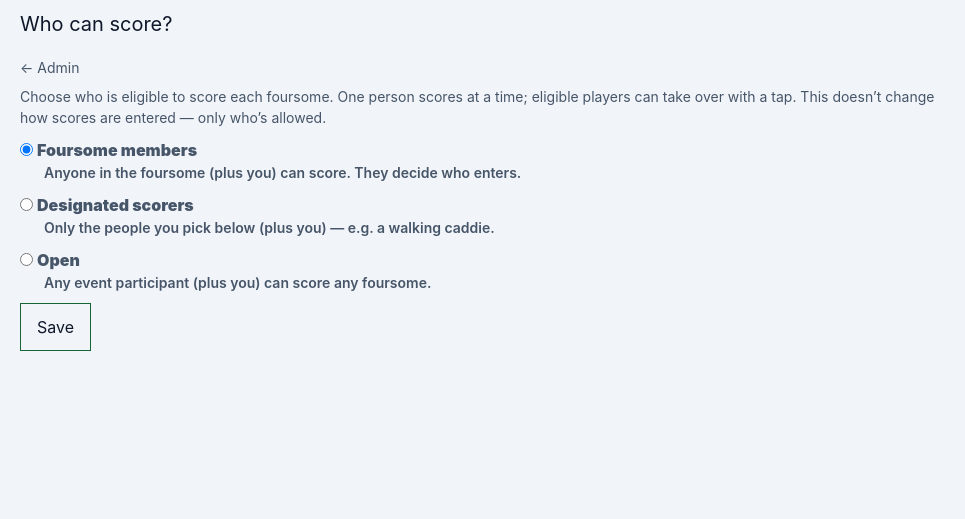
Test: ScorerPolicyPage › shows the three policies; the designee picker appears only under Designated
Expected: the label with test id "policy-foursome" is shown, [20,140,521,181]
Expected: the label with test id "policy-designated" is shown, [20,195,495,236]
// Switch to Designated → picker with the roster appears.
What coordinates should you click on to do the following:
click the 2nd radio button
I would click on:
 (26, 204)
Its box is [20,198,33,211].
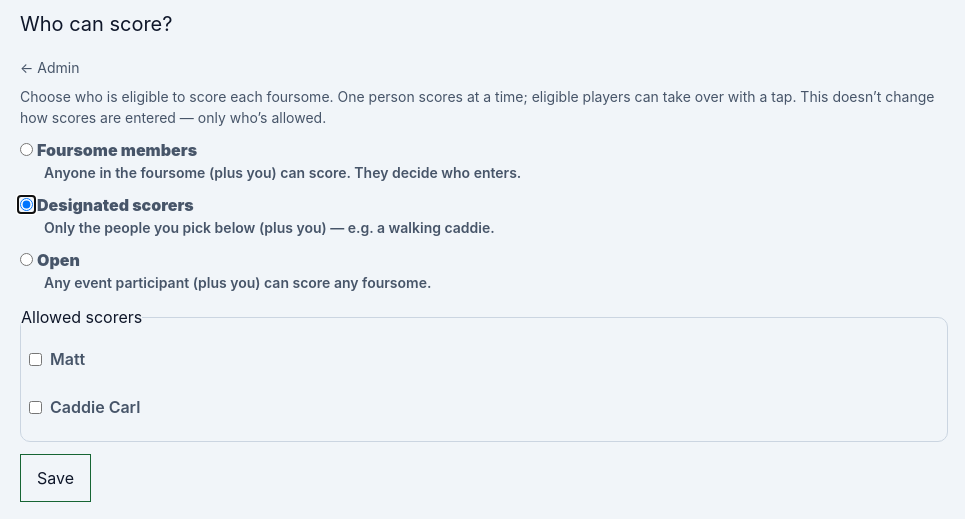
Expected: the element with test id "designee-picker" is shown, [20,305,948,442]
Expected: the checkbox with test id "designee-caddie" is shown, [29,400,42,414]
Expected: the text "Caddie Carl" is shown, [29,397,140,417]
